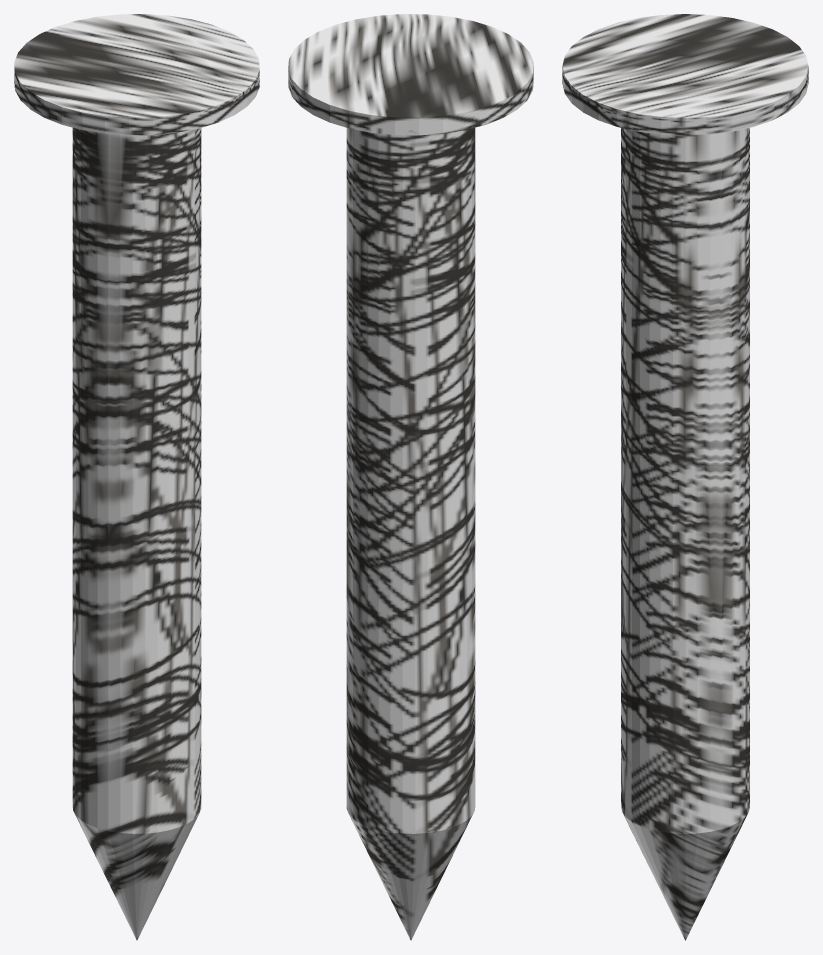
File: Nail.fbx
The picture shows the model from 3 angles, left to right: view 1: azimuth 30°, elevation 25°; view 2: azimuth 150°, elevation 25°; view 3: azimuth 270°, elevation 25°; orthographic projection.
Parts seen in each view (by area): view 1: nail; view 2: nail; view 3: nail.
Part boxes in pixels (x1,y1,x2,y2): nail: (14, 14, 259, 940); nail: (288, 14, 533, 940); nail: (562, 14, 808, 940).
Bounding box in the file's own units: 3.07 × 12.03 × 3.07.
1 material, 1 textured.
